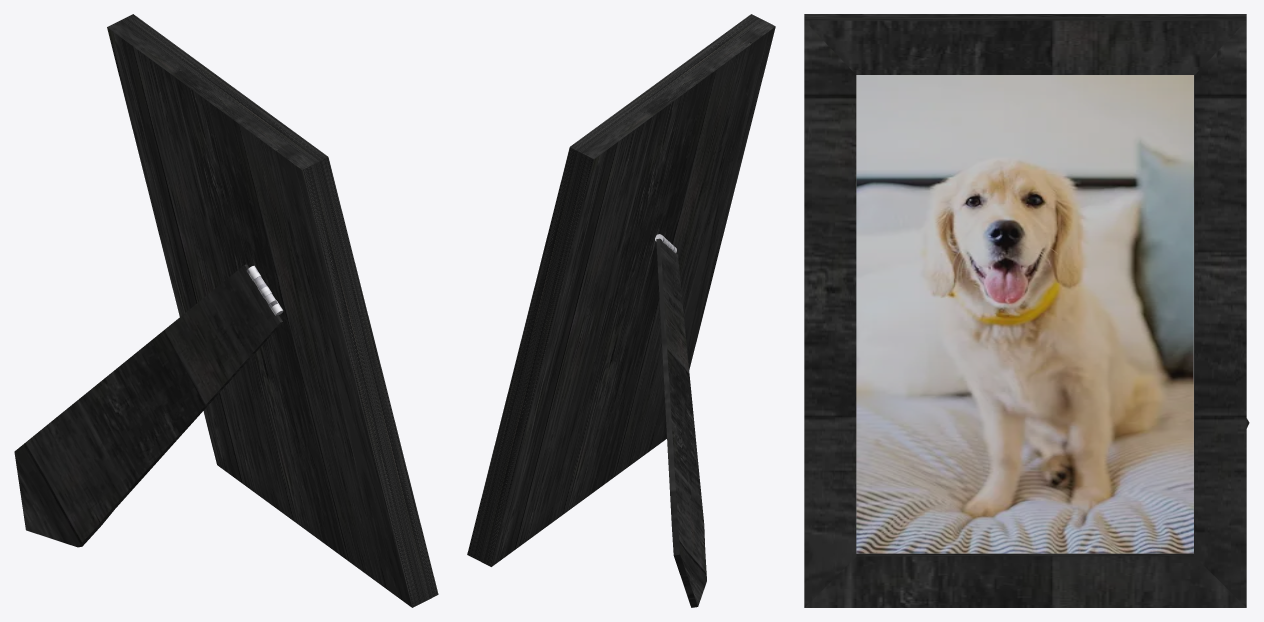
Rendered from photo-frame-dog.glb.
The picture shows the model from 3 angles, left to right: view 1: azimuth 30°, elevation 25°; view 2: azimuth 150°, elevation 25°; view 3: azimuth 270°, elevation 25°; orthographic projection. The views are drawn at different scales.
Visible parts, largest first — view 1: Cube_0; view 2: Cube_0; view 3: Plane_001_0, Cube_0.
Boxes of the visible parts, x1,y1,x2,y2 form: Cube_0: (14,14,438,607); Cube_0: (467,14,775,607); Plane_001_0: (856,75,1193,553); Cube_0: (804,14,1249,607).
Size of the model in its own units: 0.1124 by 0.22 by 0.1643.
3 materials, 3 textured.
